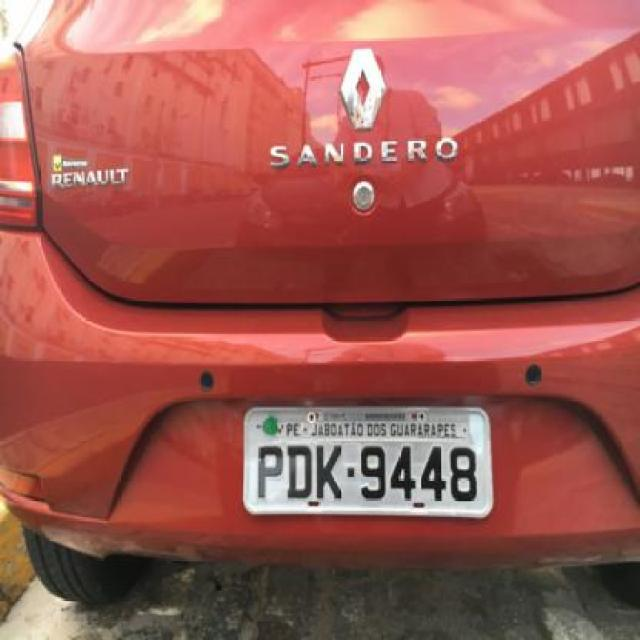old_plate: (234, 400, 500, 523)
